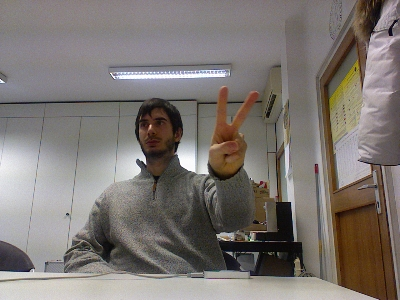剪刀: (206, 84, 259, 177)
